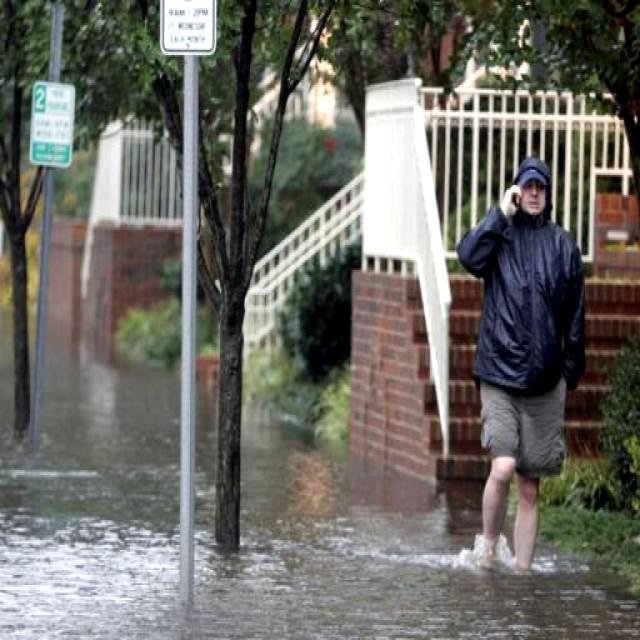civilian: (449, 146, 598, 596)
